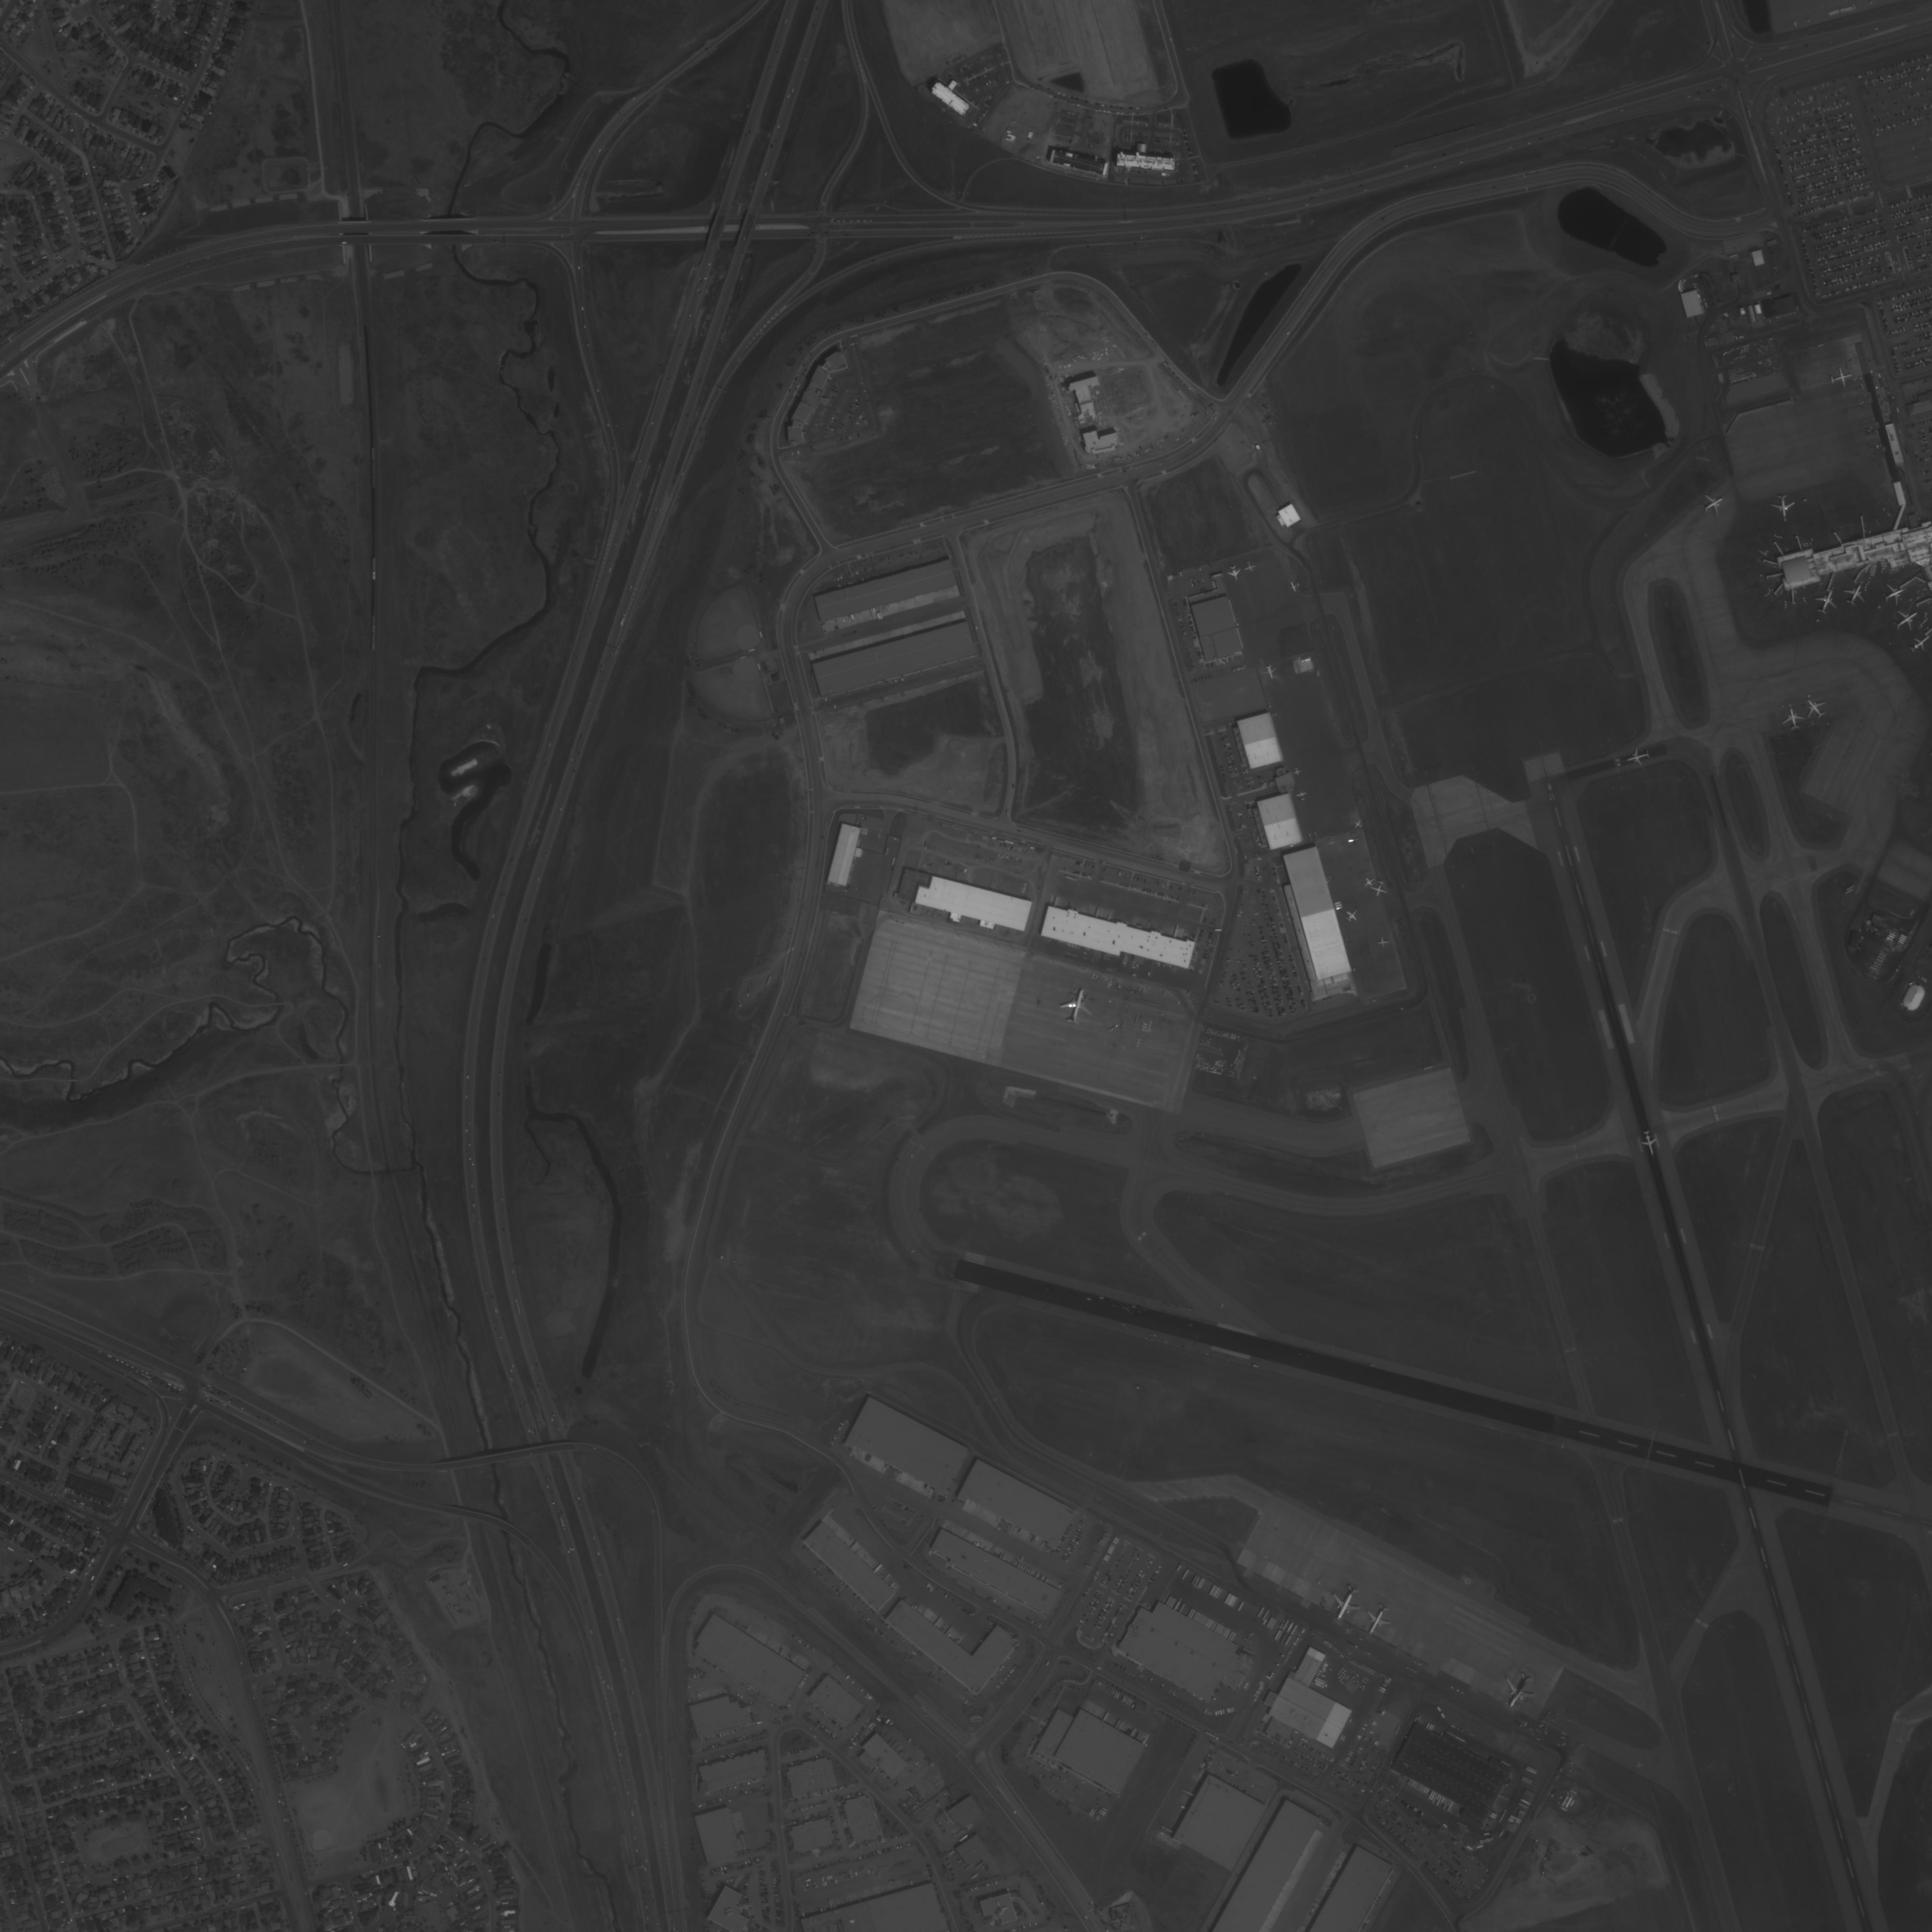plane: (1491, 1662, 1545, 1717), (1320, 1575, 1373, 1629), (1051, 980, 1101, 1032), (1355, 1595, 1401, 1642), (1889, 603, 1925, 639), (1878, 576, 1913, 610), (1800, 692, 1833, 725), (1697, 488, 1731, 521), (1839, 578, 1872, 611), (1777, 701, 1809, 734), (1811, 586, 1844, 619), (1633, 1125, 1663, 1159), (1621, 741, 1654, 771), (1824, 362, 1856, 392), (1771, 494, 1797, 523), (1904, 631, 1932, 657), (1366, 874, 1393, 899), (1338, 902, 1364, 927), (1223, 560, 1245, 585), (1259, 661, 1280, 682), (1359, 871, 1378, 890), (1293, 786, 1310, 805), (1372, 934, 1391, 951), (1349, 815, 1366, 832), (1285, 577, 1302, 595), (1241, 557, 1258, 574), (1346, 831, 1361, 847), (1289, 764, 1303, 779)
